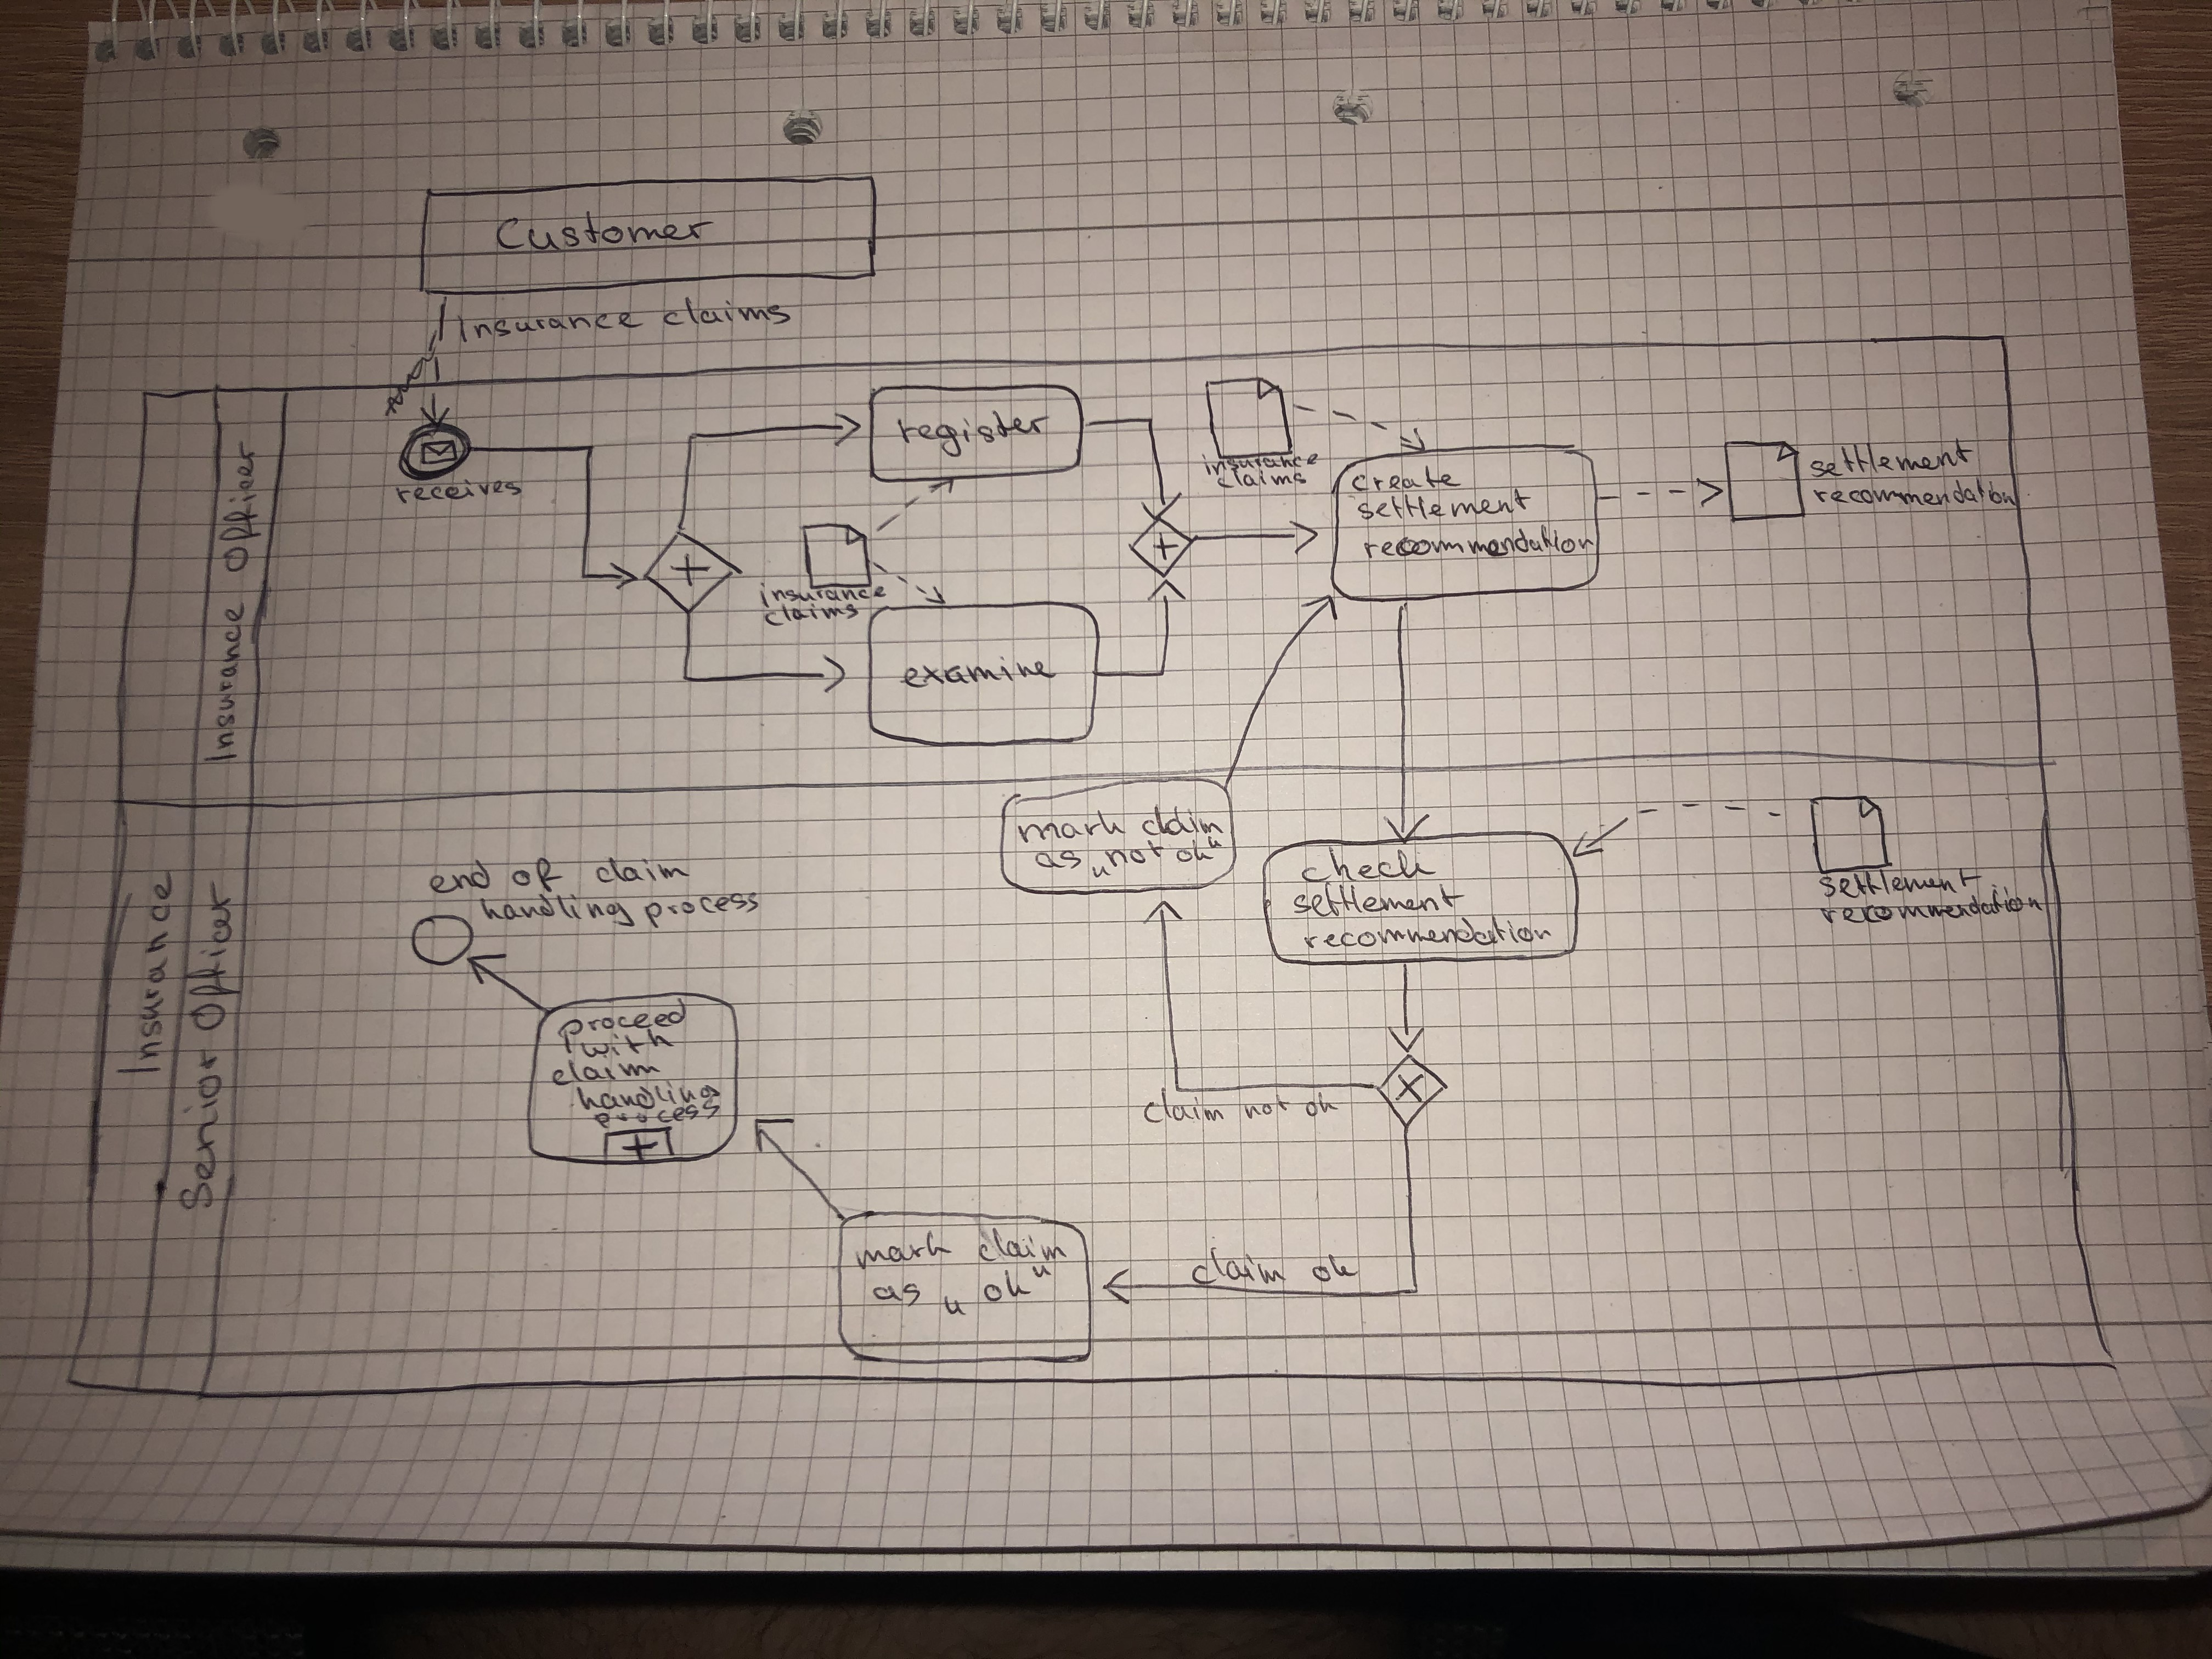Customer: (489, 206, 719, 258)
Insurance: (108, 866, 179, 1084), (197, 596, 251, 769)
Officer: (181, 875, 247, 1037), (214, 436, 265, 579)
Senior: (172, 1042, 228, 1218)
as: (867, 1279, 925, 1310), (1031, 847, 1085, 873)
check: (1296, 842, 1440, 887)
claim: (1186, 1243, 1292, 1290), (549, 1053, 665, 1091), (974, 1223, 1071, 1269), (1139, 1082, 1228, 1129), (1137, 800, 1228, 840), (592, 854, 693, 887)
claims: (657, 291, 796, 331), (759, 598, 864, 631), (1212, 467, 1310, 491)
create: (1348, 462, 1465, 497)
end: (425, 856, 495, 899)
examine: (895, 652, 1061, 692)
handling: (474, 889, 641, 932), (571, 1077, 726, 1114)
insurance: (451, 305, 648, 349), (754, 579, 890, 612), (1197, 450, 1322, 481)
mark: (1012, 805, 1132, 847), (852, 1227, 956, 1274)
not: (1089, 835, 1169, 880), (1240, 1091, 1294, 1124)
of: (507, 854, 568, 896)
ok: (941, 1262, 1055, 1319), (1308, 1249, 1364, 1286), (1170, 833, 1226, 866), (1301, 1089, 1343, 1122)
proceed: (554, 993, 691, 1058)
process: (639, 885, 763, 934), (587, 1094, 725, 1133)
receives: (390, 474, 528, 509)
recommendation: (1299, 910, 1555, 953), (1815, 880, 2048, 927), (1359, 519, 1599, 565), (1808, 472, 2024, 511)
register: (890, 406, 1055, 464)
settlement: (1287, 877, 1470, 922), (1806, 434, 1979, 481), (1353, 483, 1536, 525), (1813, 864, 1986, 903)
with: (577, 1025, 679, 1063)
